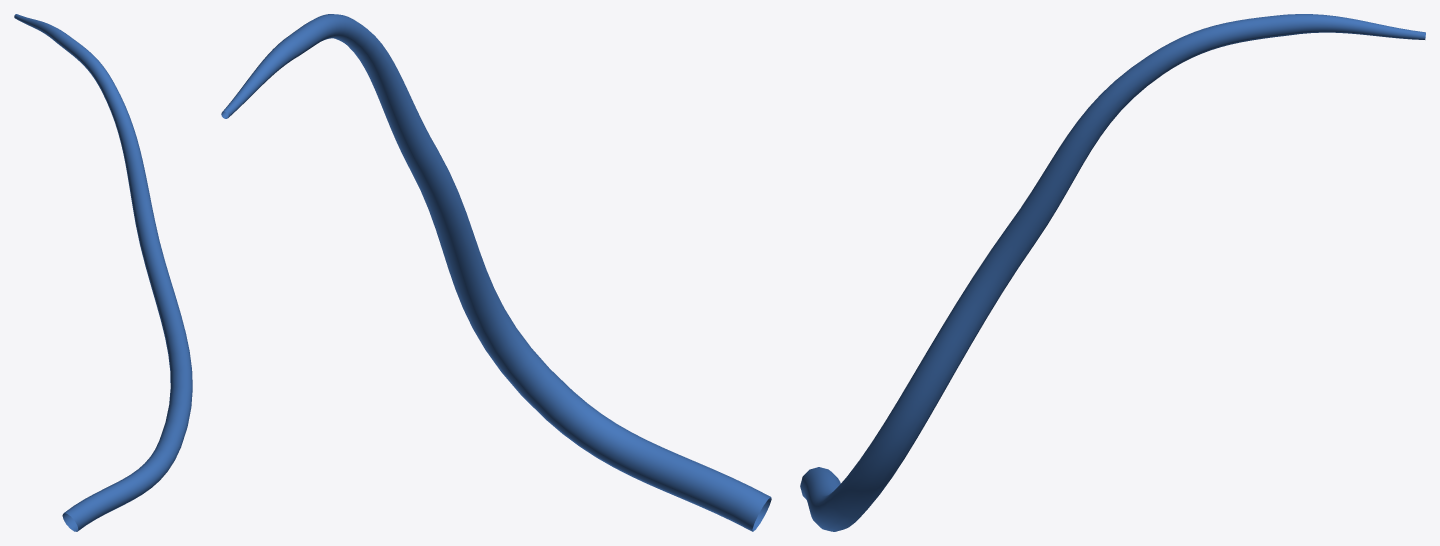
3 renders of one model, left to right at view 1: azimuth 30°, elevation 25°; view 2: azimuth 150°, elevation 25°; view 3: azimuth 270°, elevation 25°, orthographic. The views are drawn at different scales.
Visible parts, largest first — view 1: 右侧骶外侧静脉; view 2: 右侧骶外侧静脉; view 3: 右侧骶外侧静脉.
Boxes of the visible parts, x1,y1,x2,y2 form: 右侧骶外侧静脉: [14, 14, 192, 531]; 右侧骶外侧静脉: [221, 14, 771, 531]; 右侧骶外侧静脉: [800, 14, 1425, 531].
Size of the model in its own units: 0.0311 by 0.0708 by 0.0676.
